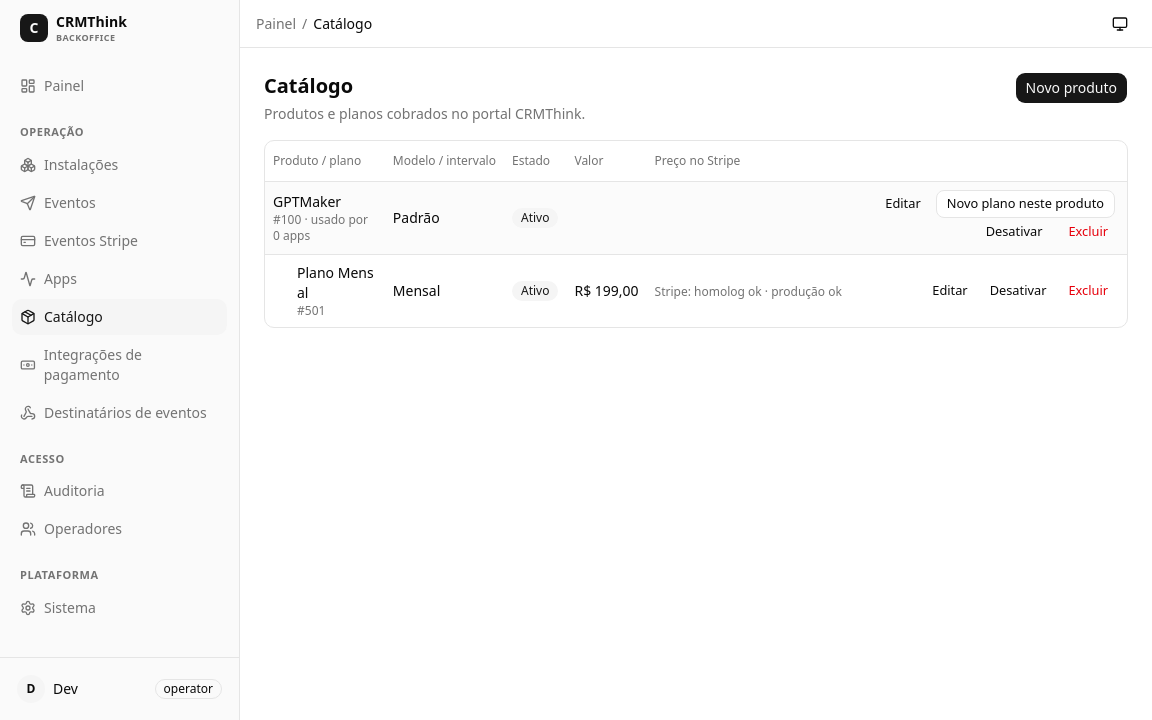
Test case: excluir e desativar › produto com planos mostra "tem N planos: exclua-os primeiro"
Click the button with aria-label "Excluir produto GPTMaker" at [1088, 232], box x1=1057 y1=218 x2=1119 y2=246
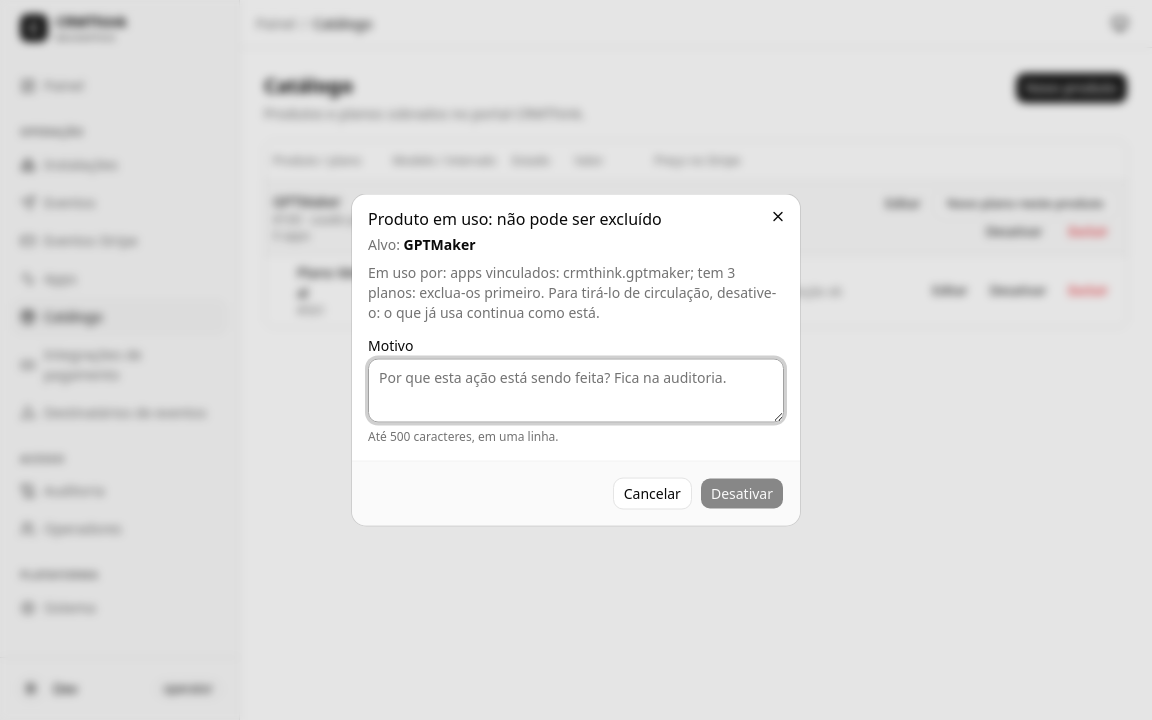
Check: the text "apps vinculados: crmthink.gptmaker" is shown, box x1=368 y1=262 x2=735 y2=302
